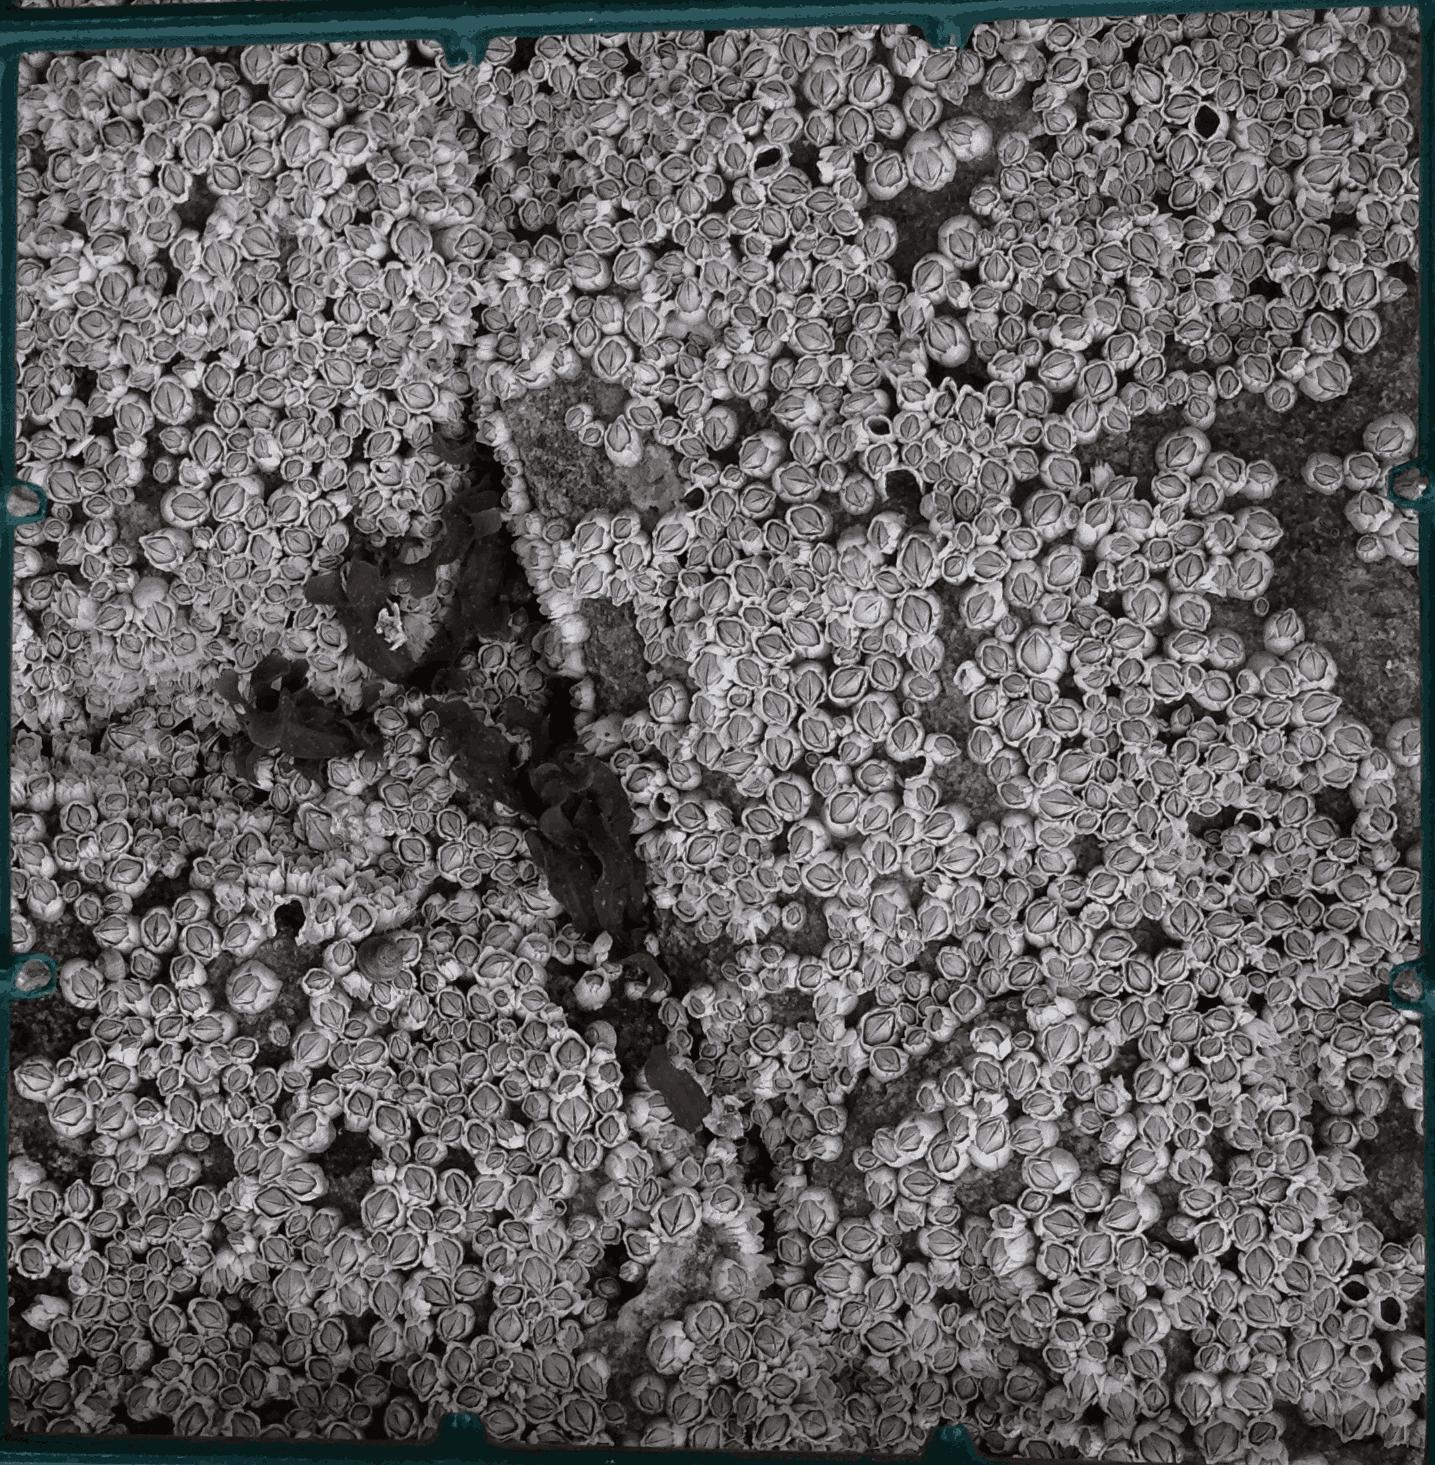Barnacle: (296, 181, 319, 222), (623, 787, 657, 815), (216, 566, 244, 597), (974, 631, 999, 664), (643, 373, 665, 409), (924, 935, 951, 963), (470, 833, 495, 863), (615, 921, 647, 945), (155, 42, 176, 78), (78, 497, 106, 522), (81, 281, 102, 315), (886, 871, 909, 901), (745, 716, 771, 742), (859, 993, 884, 1021), (445, 213, 470, 240), (260, 830, 284, 859), (397, 765, 421, 794), (650, 101, 673, 131), (715, 97, 745, 120), (338, 597, 369, 618), (873, 112, 898, 138), (196, 886, 219, 913), (958, 188, 982, 215), (371, 876, 393, 905), (643, 415, 665, 444), (714, 491, 739, 516), (958, 979, 982, 1005), (728, 441, 750, 469), (192, 49, 219, 71), (756, 893, 785, 914), (669, 591, 699, 611), (741, 551, 771, 570), (601, 380, 620, 410), (402, 978, 426, 1003), (695, 780, 719, 805), (717, 738, 741, 763), (652, 181, 675, 206), (813, 1001, 840, 1024), (37, 854, 59, 880), (787, 838, 813, 861), (151, 336, 173, 363), (281, 156, 304, 183), (183, 828, 210, 849), (555, 325, 582, 346), (284, 265, 311, 286), (568, 223, 595, 244), (147, 167, 168, 194), (929, 109, 957, 130), (769, 863, 792, 887), (591, 552, 615, 575), (607, 46, 631, 70), (568, 838, 590, 863), (616, 706, 639, 731), (938, 654, 961, 679), (551, 545, 573, 570), (176, 72, 201, 95), (899, 70, 921, 95), (99, 67, 124, 89), (385, 435, 403, 465), (110, 265, 129, 296), (790, 970, 811, 996), (762, 955, 783, 981), (679, 619, 700, 645), (929, 484, 955, 505), (495, 456, 516, 482), (941, 863, 961, 891), (744, 845, 771, 865), (361, 823, 381, 850), (336, 755, 356, 783), (566, 469, 586, 497), (138, 300, 158, 327), (131, 88, 151, 116), (598, 74, 618, 101), (164, 678, 187, 702), (654, 633, 677, 657), (736, 344, 758, 368), (33, 328, 57, 351), (57, 215, 80, 238), (246, 181, 269, 204), (506, 24, 528, 47), (127, 979, 148, 1004), (880, 964, 905, 985), (386, 946, 407, 971), (463, 933, 484, 958), (495, 911, 516, 935), (582, 882, 607, 903), (307, 866, 329, 891), (926, 682, 951, 703), (834, 629, 855, 654), (951, 508, 976, 530), (823, 462, 844, 487), (524, 394, 545, 419), (890, 357, 915, 378), (562, 353, 587, 374), (781, 202, 802, 227), (171, 158, 196, 179), (844, 966, 863, 992), (612, 489, 632, 515), (537, 441, 564, 461), (120, 344, 146, 364), (662, 222, 682, 248), (551, 122, 577, 142), (156, 83, 176, 109), (393, 43, 410, 74), (60, 137, 79, 164), (541, 988, 564, 1010), (732, 629, 754, 652), (880, 600, 903, 623), (635, 502, 657, 524), (880, 390, 903, 413), (746, 319, 769, 342), (658, 34, 681, 56), (264, 24, 286, 46), (478, 972, 499, 996), (28, 963, 51, 984), (886, 904, 909, 925), (619, 893, 640, 917), (279, 861, 300, 884), (396, 724, 417, 748), (754, 526, 778, 547), (594, 466, 618, 487), (499, 403, 520, 427), (411, 392, 432, 415), (699, 322, 720, 346), (773, 254, 794, 277), (940, 251, 961, 275), (961, 219, 982, 243), (33, 177, 57, 198), (171, 954, 191, 979), (265, 896, 285, 921), (601, 857, 626, 876), (288, 815, 307, 840), (815, 778, 834, 803), (560, 431, 585, 451), (102, 420, 122, 445), (690, 413, 710, 438), (807, 410, 827, 435), (838, 386, 858, 411), (693, 384, 717, 403), (798, 351, 823, 371), (552, 276, 577, 296), (520, 252, 540, 277), (742, 246, 767, 265), (426, 237, 445, 261), (781, 171, 806, 191), (677, 158, 696, 183), (834, 95, 854, 120), (216, 63, 240, 83), (294, 949, 313, 975), (109, 912, 127, 938), (859, 637, 886, 656), (829, 66, 855, 84), (135, 953, 156, 975), (537, 926, 558, 949), (300, 892, 321, 914), (202, 815, 225, 836), (267, 773, 289, 794), (306, 745, 329, 766), (488, 582, 510, 603), (746, 388, 769, 409), (996, 364, 1018, 385), (831, 306, 853, 327), (39, 285, 60, 307), (230, 250, 252, 271), (71, 191, 92, 213), (721, 141, 742, 163), (623, 109, 645, 130), (317, 941, 336, 964), (807, 914, 827, 938), (313, 914, 332, 938), (315, 819, 335, 842), (135, 710, 159, 729), (102, 637, 122, 661), (899, 631, 922, 650), (930, 573, 954, 593), (799, 501, 823, 520), (982, 297, 1005, 317), (760, 179, 779, 202), (618, 158, 637, 181), (150, 116, 173, 135), (237, 89, 260, 109), (530, 32, 549, 55), (936, 970, 954, 995), (352, 914, 371, 939), (802, 803, 827, 821), (12, 744, 37, 762), (754, 642, 773, 667), (622, 625, 640, 650), (576, 603, 601, 621), (545, 512, 564, 537), (544, 482, 562, 507), (578, 49, 597, 74), (811, 47, 829, 72), (176, 30, 194, 55), (558, 24, 577, 49), (831, 876, 848, 903), (974, 702, 1000, 719), (782, 654, 808, 671), (788, 593, 815, 610), (721, 917, 742, 938), (915, 882, 936, 903), (735, 809, 756, 830), (373, 974, 396, 993), (57, 876, 76, 899), (879, 847, 899, 870), (506, 829, 528, 849), (721, 786, 744, 805), (459, 762, 481, 782), (212, 723, 234, 742), (68, 640, 91, 660), (658, 568, 681, 587), (495, 512, 515, 535), (468, 365, 490, 385), (194, 346, 214, 368), (530, 340, 552, 360), (265, 322, 288, 342), (675, 315, 695, 338), (198, 294, 218, 317), (807, 162, 827, 184), (326, 160, 348, 180), (173, 102, 196, 122), (137, 909, 160, 928), (855, 854, 874, 878), (907, 844, 930, 862), (903, 775, 926, 794), (38, 766, 62, 784), (530, 564, 553, 582), (926, 452, 945, 476), (102, 374, 126, 393), (824, 331, 848, 349), (147, 254, 166, 277), (934, 219, 953, 243), (405, 176, 428, 194), (218, 113, 237, 137), (276, 979, 293, 1004), (78, 599, 102, 616), (85, 233, 102, 258), (130, 194, 147, 219), (921, 191, 938, 215), (904, 99, 929, 116), (834, 34, 852, 59), (494, 995, 514, 1016), (570, 984, 590, 1005), (807, 942, 827, 963), (840, 905, 859, 926), (237, 863, 252, 890), (665, 798, 685, 819), (834, 708, 855, 728), (803, 671, 823, 692), (825, 666, 845, 687), (340, 665, 367, 681), (924, 625, 944, 646), (955, 610, 976, 629), (72, 575, 92, 597), (484, 561, 505, 581), (915, 557, 936, 577), (445, 535, 467, 554), (520, 499, 540, 520), (796, 459, 816, 480), (608, 417, 628, 438), (411, 365, 431, 386), (528, 306, 548, 327), (566, 250, 587, 269), (102, 152, 124, 172), (484, 127, 503, 148), (262, 78, 281, 99), (749, 38, 770, 58), (346, 24, 367, 43), (231, 967, 250, 989), (719, 960, 741, 979), (364, 946, 382, 968), (37, 924, 55, 946), (745, 868, 763, 891), (662, 858, 685, 876), (899, 821, 921, 840), (121, 766, 139, 788), (133, 646, 151, 669), (373, 618, 396, 636), (622, 587, 640, 610), (573, 501, 591, 523), (901, 466, 924, 485), (700, 449, 719, 472), (67, 423, 89, 441), (76, 317, 95, 339), (501, 290, 519, 313), (556, 180, 574, 202), (863, 893, 880, 917), (122, 849, 146, 866), (857, 706, 880, 723), (800, 699, 817, 723), (704, 652, 721, 675), (562, 577, 580, 600), (861, 520, 884, 537), (842, 418, 859, 441), (187, 197, 204, 221), (792, 436, 817, 452), (242, 202, 258, 227), (484, 194, 499, 219), (116, 113, 131, 138), (234, 37, 259, 53), (796, 866, 816, 886), (247, 761, 267, 780), (811, 748, 831, 767), (695, 742, 715, 762), (719, 670, 739, 690), (936, 599, 955, 619), (951, 167, 971, 187), (264, 928, 283, 949), (382, 861, 403, 879), (336, 825, 357, 844), (916, 796, 934, 817), (100, 787, 121, 805), (71, 770, 89, 791), (72, 744, 93, 762), (55, 727, 74, 748), (953, 717, 974, 736), (831, 687, 852, 706), (51, 677, 70, 698), (121, 666, 139, 687), (463, 480, 481, 501), (526, 459, 544, 480), (507, 343, 526, 364), (258, 279, 276, 300), (166, 212, 184, 233), (438, 176, 456, 197), (702, 175, 720, 196), (7, 118, 28, 137), (983, 116, 1001, 137), (961, 106, 979, 127), (779, 64, 800, 83), (300, 49, 318, 70), (133, 41, 151, 62), (951, 35, 970, 56), (930, 17, 951, 35), (346, 985, 368, 1003), (545, 960, 568, 978), (516, 928, 534, 950), (650, 922, 668, 945), (647, 890, 664, 912), (323, 890, 346, 907), (185, 801, 202, 824), (348, 581, 371, 598), (695, 481, 712, 503), (442, 377, 459, 399), (218, 352, 235, 374), (173, 349, 191, 372), (618, 310, 635, 332), (765, 279, 782, 301), (418, 156, 440, 173), (470, 109, 493, 126), (204, 88, 221, 110), (650, 67, 668, 89), (704, 866, 720, 890), (845, 830, 869, 846), (644, 819, 668, 834), (250, 728, 273, 744), (564, 301, 580, 325), (434, 293, 449, 317), (685, 276, 700, 300), (583, 184, 599, 208), (296, 137, 319, 152), (627, 989, 647, 1008), (164, 985, 183, 1005), (187, 866, 206, 884), (97, 825, 116, 845), (840, 808, 859, 826), (954, 808, 972, 828), (331, 784, 350, 804), (208, 777, 226, 796), (284, 585, 304, 603), (47, 562, 66, 582), (748, 493, 767, 511), (650, 451, 669, 470), (511, 434, 531, 452), (624, 397, 644, 415), (863, 363, 882, 382), (24, 304, 43, 322), (484, 269, 502, 289), (890, 248, 908, 268), (11, 183, 29, 202), (129, 64, 148, 83), (260, 49, 279, 68), (610, 960, 635, 975), (495, 486, 510, 511), (42, 409, 57, 434), (911, 5, 936, 20), (890, 993, 911, 1010), (654, 963, 672, 984), (909, 957, 926, 978), (7, 954, 24, 975), (413, 953, 430, 974), (60, 928, 81, 945), (378, 918, 396, 939), (732, 904, 749, 925), (968, 855, 986, 876), (725, 830, 746, 847), (377, 788, 394, 809), (133, 734, 150, 755), (672, 664, 689, 685), (999, 508, 1016, 530), (900, 491, 921, 508), (771, 466, 792, 484), (622, 459, 639, 480), (721, 399, 739, 420), (796, 392, 817, 409), (545, 364, 562, 385), (21, 269, 38, 290), (527, 181, 548, 198), (543, 145, 560, 166), (57, 112, 74, 133), (675, 85, 696, 102), (549, 81, 570, 99), (491, 39, 509, 60), (405, 22, 426, 39), (229, 922, 244, 945), (937, 900, 953, 922), (229, 698, 244, 720), (959, 678, 982, 694), (946, 633, 968, 649), (602, 599, 618, 621), (313, 565, 329, 587), (515, 526, 537, 541), (837, 441, 859, 457), (644, 212, 660, 234), (275, 187, 290, 209), (886, 172, 901, 194), (64, 164, 87, 180), (37, 104, 53, 126), (386, 812, 401, 836), (944, 535, 967, 549), (590, 401, 604, 424), (838, 223, 862, 238), (9, 204, 24, 227), (356, 198, 371, 222), (869, 167, 883, 191), (941, 89, 965, 104), (201, 935, 219, 954), (702, 914, 720, 933), (373, 713, 392, 732), (313, 692, 331, 711), (580, 692, 598, 711), (778, 610, 796, 628), (963, 318, 982, 336), (791, 234, 809, 252), (205, 179, 223, 197), (926, 156, 945, 175), (72, 84, 91, 102), (343, 74, 361, 92), (422, 71, 440, 89), (382, 24, 401, 42), (604, 978, 622, 997), (205, 914, 222, 934), (598, 909, 618, 926), (560, 900, 580, 917), (765, 826, 785, 844), (181, 749, 198, 769), (916, 650, 936, 667), (248, 631, 265, 650), (170, 581, 187, 600), (974, 545, 993, 562), (293, 533, 313, 551), (614, 532, 633, 549), (590, 432, 607, 452), (177, 373, 194, 393), (202, 371, 222, 388), (262, 304, 281, 321), (154, 279, 171, 298), (729, 269, 746, 289), (219, 269, 239, 286), (279, 213, 296, 233), (999, 139, 1016, 159), (834, 126, 854, 143), (102, 91, 120, 110), (869, 55, 886, 75), (57, 42, 74, 62), (900, 33, 917, 53), (449, 20, 467, 39), (59, 974, 80, 989), (526, 972, 541, 993), (255, 962, 276, 978), (53, 905, 74, 921), (357, 853, 378, 868), (221, 847, 237, 868), (49, 826, 64, 847), (677, 777, 693, 798), (221, 757, 242, 773), (636, 568, 652, 589), (720, 369, 741, 385), (484, 305, 505, 321), (448, 282, 469, 298), (602, 273, 623, 289), (367, 251, 388, 267), (756, 221, 777, 237), (905, 214, 926, 230), (114, 208, 130, 229), (693, 201, 714, 217), (502, 181, 518, 202), (422, 125, 443, 141), (802, 106, 817, 127), (890, 85, 905, 106), (951, 955, 974, 970), (151, 200, 166, 222), (959, 917, 976, 935), (22, 830, 39, 849), (863, 737, 880, 755), (329, 736, 346, 754), (570, 673, 587, 691), (762, 671, 781, 688), (591, 658, 608, 677), (313, 589, 331, 606), (39, 585, 57, 603), (273, 547, 290, 565), (735, 512, 752, 531), (926, 511, 944, 530), (767, 423, 785, 441), (744, 417, 762, 434), (721, 314, 739, 332), (297, 311, 315, 328), (746, 296, 763, 314), (670, 294, 689, 311), (166, 260, 183, 279), (92, 258, 110, 275), (14, 254, 32, 272), (212, 237, 229, 255), (714, 222, 731, 240), (208, 198, 226, 215), (102, 185, 120, 204), (599, 32, 618, 49), (732, 1006, 752, 1022), (460, 997, 484, 1010), (91, 968, 106, 988), (1001, 942, 1021, 958), (895, 932, 915, 947), (289, 924, 305, 943), (242, 897, 258, 917), (104, 895, 120, 914), (639, 844, 658, 859), (620, 824, 636, 844), (840, 750, 859, 766), (673, 750, 689, 770), (112, 710, 131, 725), (159, 645, 179, 661), (706, 530, 721, 549), (858, 473, 878, 489), (787, 334, 807, 349), (643, 265, 662, 281), (368, 217, 384, 237), (721, 171, 741, 187), (990, 162, 1005, 181), (499, 151, 519, 167), (520, 145, 540, 160), (254, 125, 269, 145), (34, 41, 47, 64), (816, 24, 832, 43), (622, 733, 643, 748), (371, 691, 392, 706), (615, 670, 629, 691), (990, 610, 1011, 624), (192, 547, 206, 568), (582, 533, 597, 554), (767, 448, 788, 462), (837, 367, 858, 381), (854, 336, 869, 357), (576, 134, 597, 148), (541, 55, 562, 70), (785, 24, 799, 45), (746, 17, 767, 32), (509, 968, 522, 991), (984, 38, 997, 60), (950, 1, 972, 14), (114, 968, 131, 985), (14, 872, 32, 890), (947, 784, 965, 801), (562, 733, 580, 750), (311, 727, 329, 744), (679, 691, 696, 708), (283, 656, 300, 673), (503, 624, 520, 641), (526, 615, 543, 632), (22, 614, 39, 631), (615, 562, 632, 579), (846, 539, 863, 556), (234, 532, 251, 549), (823, 531, 840, 548), (665, 512, 682, 530), (909, 428, 926, 445), (150, 410, 167, 427), (234, 304, 251, 321), (62, 275, 79, 292), (185, 263, 202, 280), (353, 233, 371, 250), (382, 166, 399, 183), (594, 145, 611, 162), (590, 102, 607, 120), (413, 53, 430, 70), (526, 950, 541, 968), (24, 943, 42, 959), (869, 921, 884, 939), (524, 908, 540, 926), (346, 871, 361, 890), (556, 865, 572, 883), (64, 847, 83, 863), (4, 842, 20, 861), (137, 830, 152, 849), (782, 759, 798, 778), (106, 690, 122, 708), (325, 656, 340, 674), (717, 615, 733, 633), (742, 594, 761, 610), (787, 568, 806, 583), (831, 552, 846, 570), (899, 511, 915, 530), (819, 377, 837, 393), (774, 349, 790, 368), (160, 317, 179, 332), (710, 290, 725, 309), (607, 254, 626, 269), (46, 235, 62, 254), (230, 229, 248, 244), (886, 210, 901, 229), (469, 176, 488, 192), (925, 74, 944, 89), (526, 71, 541, 89), (707, 46, 723, 64), (204, 984, 223, 999), (519, 884, 534, 904), (690, 855, 704, 875), (445, 807, 460, 826), (815, 719, 829, 738), (67, 712, 87, 727), (510, 698, 530, 712), (71, 690, 85, 710), (346, 646, 365, 661), (12, 589, 32, 603), (775, 547, 790, 566), (693, 510, 707, 530), (878, 485, 898, 499), (167, 449, 181, 469), (509, 376, 523, 395), (181, 304, 196, 323), (587, 301, 602, 321), (632, 250, 652, 264), (908, 142, 922, 162), (516, 99, 531, 118), (343, 93, 357, 113), (235, 996, 256, 1009), (145, 770, 158, 791), (731, 765, 752, 778), (350, 727, 363, 748), (470, 510, 484, 531), (411, 222, 424, 243), (124, 167, 137, 188), (92, 167, 105, 188), (901, 118, 915, 139), (289, 114, 310, 127), (212, 968, 229, 984), (679, 962, 696, 978), (219, 949, 237, 964), (666, 939, 682, 957), (855, 939, 871, 957), (338, 934, 355, 950), (390, 899, 407, 914), (154, 884, 170, 901), (447, 861, 463, 878), (431, 834, 447, 851), (361, 807, 378, 823), (777, 724, 792, 741), (537, 719, 555, 734), (904, 685, 921, 700), (129, 570, 145, 587), (978, 565, 993, 582), (714, 547, 731, 562), (343, 449, 359, 466), (869, 444, 884, 461), (565, 395, 581, 413), (827, 349, 842, 367), (602, 336, 618, 353), (790, 285, 806, 302), (704, 269, 721, 285), (321, 260, 336, 277), (813, 250, 829, 267), (188, 243, 204, 260), (610, 213, 627, 229), (89, 208, 106, 223), (852, 194, 869, 210), (388, 188, 405, 204), (846, 171, 863, 187), (248, 160, 264, 177), (974, 141, 991, 156), (929, 137, 946, 152), (43, 131, 59, 148), (87, 124, 102, 141), (715, 118, 732, 134), (484, 78, 499, 95), (512, 53, 530, 68), (752, 924, 770, 938), (410, 796, 424, 815), (162, 763, 176, 782), (971, 759, 986, 778), (336, 713, 351, 732), (223, 627, 238, 645), (824, 595, 842, 610), (650, 591, 665, 610), (653, 548, 668, 566), (255, 527, 269, 545), (879, 503, 894, 522), (802, 485, 820, 499), (353, 466, 368, 485), (122, 441, 141, 456), (865, 393, 879, 411), (682, 343, 696, 361), (55, 328, 74, 343), (388, 225, 406, 239), (690, 222, 708, 237), (844, 152, 862, 167), (448, 112, 463, 130), (431, 106, 445, 125), (279, 68, 297, 83), (428, 34, 447, 49), (794, 16, 812, 30), (580, 380, 591, 402), (817, 966, 831, 985), (1007, 865, 1020, 884), (428, 778, 442, 798), (695, 717, 715, 731), (855, 675, 869, 695), (869, 660, 882, 679), (742, 578, 762, 591), (849, 505, 869, 518), (33, 441, 46, 461), (478, 417, 491, 436), (59, 307, 72, 327), (175, 286, 194, 300), (744, 79, 763, 92), (43, 62, 57, 81), (640, 25, 653, 45), (975, 20, 988, 39), (35, 992, 59, 1003), (221, 886, 237, 901), (3, 819, 14, 840), (582, 774, 598, 790), (127, 691, 143, 707), (87, 685, 102, 700), (796, 631, 812, 646), (154, 603, 175, 615), (812, 561, 824, 582), (219, 457, 240, 469), (59, 388, 75, 403), (622, 364, 633, 385), (869, 321, 884, 336), (668, 271, 679, 292), (905, 269, 921, 285), (24, 156, 39, 172), (785, 148, 806, 160), (237, 142, 252, 158), (272, 130, 288, 146), (267, 110, 283, 126), (87, 104, 102, 120), (576, 80, 587, 101), (216, 30, 231, 46), (769, 8, 785, 24), (987, 995, 1001, 1012), (643, 950, 657, 967), (113, 950, 130, 964), (746, 942, 763, 957), (125, 933, 142, 947), (293, 844, 307, 861), (170, 801, 184, 819), (880, 787, 898, 801), (162, 787, 176, 804), (424, 759, 439, 777), (376, 737, 390, 754), (855, 724, 873, 738), (908, 703, 922, 720), (470, 700, 485, 717), (292, 696, 306, 713), (699, 677, 714, 694), (237, 657, 251, 674), (124, 628, 141, 642), (754, 615, 771, 629), (794, 547, 811, 561), (197, 526, 212, 543), (840, 516, 854, 533), (715, 470, 732, 485), (756, 435, 773, 449), (548, 413, 562, 430), (160, 390, 177, 405), (695, 357, 710, 374), (162, 301, 179, 315), (113, 300, 130, 314), (470, 292, 488, 306), (453, 255, 470, 269), (293, 231, 310, 246), (802, 215, 816, 233), (344, 215, 361, 230), (522, 213, 539, 227), (321, 204, 335, 221), (604, 191, 619, 208), (350, 160, 367, 175), (442, 155, 459, 169), (598, 124, 612, 141), (862, 99, 879, 113), (311, 76, 329, 91), (79, 58, 93, 75), (675, 55, 690, 72), (767, 999, 781, 1017), (488, 954, 506, 967), (685, 922, 698, 941), (996, 890, 1014, 903), (456, 823, 469, 841), (307, 515, 321, 533), (269, 495, 288, 508), (24, 465, 37, 484), (455, 431, 468, 449), (155, 367, 168, 385), (11, 363, 29, 376), (109, 237, 127, 250), (941, 194, 954, 213), (171, 191, 184, 209), (490, 164, 503, 183), (210, 135, 223, 154), (696, 18, 710, 37), (844, 7, 862, 20), (852, 880, 863, 900), (852, 652, 863, 671), (436, 402, 448, 422), (643, 288, 654, 307), (551, 215, 562, 235), (539, 200, 551, 219), (18, 989, 34, 1004), (327, 968, 343, 983), (356, 897, 372, 912), (925, 830, 940, 846), (314, 782, 329, 798), (770, 775, 786, 790), (1004, 742, 1018, 758), (580, 731, 595, 745), (879, 723, 894, 738), (265, 686, 280, 702), (745, 667, 760, 683), (886, 646, 901, 661), (540, 606, 555, 621), (506, 603, 522, 618), (469, 587, 484, 603), (332, 577, 347, 593), (283, 512, 298, 527), (777, 497, 791, 512), (736, 476, 750, 491), (127, 468, 142, 484), (50, 459, 66, 473), (16, 448, 32, 462), (22, 405, 37, 420), (674, 388, 689, 403), (108, 322, 124, 336), (201, 321, 216, 336), (848, 277, 862, 293), (913, 244, 929, 259), (162, 235, 177, 250), (537, 230, 552, 246), (386, 208, 402, 222), (838, 204, 853, 219), (214, 162, 229, 177), (878, 143, 894, 158), (325, 135, 340, 150), (799, 129, 813, 145), (321, 60, 336, 75), (156, 968, 173, 981), (177, 897, 191, 914), (405, 851, 422, 865), (104, 851, 121, 865), (95, 769, 112, 782), (766, 748, 779, 765), (114, 746, 127, 763), (321, 629, 338, 642), (265, 624, 283, 637), (531, 583, 544, 600), (57, 579, 70, 597), (18, 543, 35, 556), (799, 526, 812, 543), (648, 473, 665, 486), (85, 441, 102, 455), (530, 424, 547, 438), (210, 424, 227, 438), (491, 380, 505, 397), (233, 371, 246, 388), (60, 363, 74, 380), (60, 346, 78, 359), (968, 346, 986, 359), (248, 328, 262, 346), (231, 326, 244, 343), (806, 271, 819, 288), (62, 244, 79, 258), (604, 234, 618, 251), (424, 208, 438, 225), (587, 206, 604, 219), (51, 201, 68, 214), (907, 175, 924, 188), (231, 171, 244, 188), (480, 152, 493, 169), (12, 152, 25, 169), (28, 138, 41, 155), (104, 135, 117, 152), (198, 120, 212, 137), (685, 35, 698, 53), (708, 248, 729, 259), (306, 978, 318, 996), (909, 863, 921, 882), (940, 811, 951, 829), (201, 748, 219, 759), (955, 702, 974, 713), (218, 678, 237, 690), (1003, 624, 1014, 642), (499, 360, 511, 378), (493, 322, 511, 334), (292, 322, 304, 340), (350, 259, 361, 277), (127, 234, 146, 246), (729, 193, 741, 212), (371, 141, 382, 159), (809, 85, 821, 104), (917, 58, 929, 76), (367, 53, 378, 71), (792, 43, 804, 62), (551, 845, 565, 859), (710, 844, 724, 858), (84, 803, 99, 817), (748, 748, 762, 762), (150, 731, 164, 745), (75, 553, 89, 568), (890, 548, 904, 562), (145, 540, 159, 554), (127, 325, 142, 339), (206, 255, 221, 269), (9, 230, 24, 244), (22, 225, 37, 239), (712, 154, 727, 168), (854, 134, 869, 148), (623, 75, 637, 89), (363, 74, 377, 88), (702, 999, 717, 1012), (457, 970, 470, 985), (700, 960, 714, 976), (78, 911, 93, 924), (578, 908, 591, 924), (286, 905, 300, 921), (693, 896, 706, 912), (413, 868, 428, 882), (120, 815, 135, 828), (301, 773, 314, 788), (166, 727, 181, 740), (785, 681, 800, 694), (999, 660, 1014, 673), (57, 627, 70, 642), (767, 566, 783, 579), (736, 531, 749, 547), (225, 476, 240, 489), (84, 470, 97, 486), (375, 466, 388, 482), (573, 420, 589, 434), (794, 374, 809, 388), (519, 363, 532, 378), (271, 361, 286, 374), (940, 325, 955, 338), (891, 325, 907, 338), (226, 289, 239, 305), (834, 264, 848, 280), (863, 234, 877, 250), (823, 219, 838, 233), (629, 198, 645, 212), (399, 145, 413, 160), (528, 129, 541, 145), (310, 97, 323, 113), (758, 95, 771, 110), (378, 91, 392, 106), (47, 85, 60, 101), (990, 64, 1003, 80), (498, 64, 514, 78), (448, 53, 461, 68), (95, 39, 110, 53), (583, 20, 597, 35), (484, 18, 499, 32), (629, 975, 647, 987), (196, 960, 208, 978), (566, 945, 578, 962), (672, 911, 683, 928), (106, 872, 118, 890), (986, 870, 1003, 882), (331, 847, 348, 859), (311, 846, 329, 858), (879, 816, 896, 828), (545, 787, 557, 804), (262, 748, 279, 759), (511, 741, 528, 753), (928, 728, 940, 745), (279, 723, 290, 740), (302, 707, 314, 724), (968, 661, 986, 673), (632, 657, 644, 674), (148, 589, 166, 600), (951, 587, 968, 599), (510, 562, 522, 579), (601, 516, 612, 533), (452, 401, 469, 413), (682, 367, 694, 384), (870, 258, 882, 275), (590, 250, 602, 267), (38, 215, 50, 233), (564, 145, 576, 162), (469, 139, 481, 156), (694, 131, 711, 143), (823, 89, 834, 106), (451, 74, 463, 91), (578, 866, 597, 876), (166, 823, 176, 841), (690, 656, 700, 674), (482, 438, 491, 459), (990, 975, 1004, 988), (252, 945, 265, 959), (774, 937, 788, 950), (188, 913, 201, 928), (798, 897, 811, 912), (426, 893, 440, 907), (78, 871, 92, 884), (627, 870, 640, 884), (841, 788, 854, 803), (399, 750, 414, 763), (427, 742, 440, 757), (246, 713, 260, 727), (336, 694, 350, 708), (279, 678, 293, 691), (858, 618, 873, 631), (873, 582, 886, 597), (515, 582, 528, 597), (717, 578, 731, 593), (9, 569, 24, 582), (873, 547, 886, 561), (478, 533, 493, 547), (976, 523, 990, 537), (414, 511, 428, 524), (156, 499, 170, 514), (394, 397, 407, 411), (388, 364, 402, 377), (403, 285, 417, 300), (469, 263, 484, 276), (70, 260, 83, 275), (256, 258, 269, 272), (148, 229, 163, 242), (212, 219, 225, 234), (410, 208, 424, 221), (465, 192, 478, 206), (619, 183, 632, 197), (343, 127, 356, 142), (502, 122, 515, 137), (351, 116, 364, 130), (750, 110, 763, 125), (785, 102, 798, 117), (290, 97, 305, 110), (361, 89, 375, 104), (857, 47, 870, 62), (469, 30, 484, 43), (710, 12, 724, 25), (863, 8, 877, 22), (731, 983, 742, 999), (53, 957, 64, 972), (146, 933, 162, 945), (850, 928, 866, 939), (944, 920, 955, 935), (264, 861, 276, 876), (627, 851, 643, 863), (531, 851, 543, 867), (869, 838, 880, 854), (488, 809, 499, 825), (346, 805, 361, 817), (355, 782, 367, 798), (884, 766, 896, 782), (60, 754, 72, 770), (237, 729, 248, 745), (505, 716, 520, 728), (583, 712, 595, 728), (641, 702, 653, 717), (781, 698, 796, 710), (665, 686, 677, 702), (878, 682, 890, 698), (7, 642, 18, 658), (817, 623, 829, 639), (7, 608, 18, 624), (698, 599, 714, 611), (209, 539, 221, 554), (785, 531, 796, 547), (631, 441, 643, 457), (137, 430, 152, 441), (124, 409, 139, 420), (200, 394, 216, 406), (470, 392, 486, 403), (318, 279, 330, 294), (124, 251, 139, 263), (484, 248, 495, 264), (639, 237, 654, 248), (259, 204, 275, 215), (744, 177, 760, 189), (363, 169, 378, 181), (87, 146, 99, 162), (414, 138, 426, 154), (812, 122, 824, 138), (322, 113, 334, 129), (442, 95, 453, 110), (993, 83, 1005, 99), (381, 70, 393, 85), (353, 49, 365, 64), (340, 959, 357, 970), (402, 926, 413, 943), (375, 765, 385, 782), (647, 678, 657, 695), (647, 307, 657, 325), (552, 256, 562, 273), (583, 167, 601, 177), (566, 166, 583, 176), (790, 121, 800, 138), (827, 118, 837, 135), (984, 99, 1001, 109), (732, 11, 749, 21), (72, 947, 85, 960), (177, 882, 191, 895), (216, 871, 229, 884), (206, 849, 219, 862), (181, 773, 194, 786), (163, 748, 176, 761), (626, 688, 639, 702), (911, 582, 924, 595), (294, 568, 307, 581), (64, 406, 78, 419), (131, 395, 145, 409), (767, 339, 781, 352), (219, 309, 233, 322), (294, 294, 307, 307), (244, 290, 258, 304), (39, 258, 53, 271), (393, 243, 406, 256), (273, 237, 286, 250), (516, 230, 530, 243), (877, 194, 890, 208), (350, 177, 363, 191), (166, 139, 179, 152), (331, 106, 344, 120), (505, 81, 518, 95), (886, 47, 899, 60), (991, 0, 1004, 13), (248, 981, 263, 993), (405, 882, 417, 896), (67, 812, 79, 826), (895, 805, 909, 817), (298, 798, 313, 809), (837, 770, 849, 784), (946, 762, 961, 774), (938, 708, 953, 720), (707, 633, 721, 645), (286, 607, 298, 621), (247, 589, 262, 600), (702, 582, 714, 597), (903, 553, 915, 568), (812, 545, 824, 560), (279, 531, 293, 543), (300, 498, 311, 512), (124, 487, 135, 502), (367, 452, 378, 466), (615, 443, 629, 455), (189, 409, 204, 420), (485, 399, 499, 411), (781, 398, 792, 413), (180, 397, 194, 409), (212, 334, 226, 346), (585, 325, 597, 339), (515, 325, 530, 336), (695, 298, 707, 313), (206, 282, 221, 294), (849, 261, 863, 273), (28, 244, 39, 259), (817, 230, 829, 244), (597, 219, 608, 234), (263, 219, 275, 234), (566, 208, 581, 219), (184, 183, 198, 194), (534, 163, 545, 177), (971, 159, 986, 171), (951, 67, 963, 81), (476, 53, 490, 64), (869, 37, 880, 51), (857, 29, 869, 43), (817, 194, 827, 213), (749, 984, 765, 995), (88, 938, 99, 954), (543, 908, 558, 918), (656, 759, 666, 775), (732, 691, 748, 702), (401, 646, 417, 657), (480, 629, 495, 640), (206, 600, 222, 611), (97, 582, 113, 593), (187, 424, 202, 435), (666, 343, 677, 359), (602, 296, 612, 311), (583, 269, 599, 280), (890, 156, 905, 167), (929, 49, 945, 59), (258, 884, 275, 893), (520, 642, 530, 660), (179, 602, 196, 611), (827, 575, 836, 593), (160, 526, 170, 543), (453, 420, 470, 430), (551, 392, 560, 409), (700, 346, 717, 355), (459, 152, 468, 169), (518, 991, 530, 1004), (430, 981, 443, 993), (5, 978, 17, 991), (510, 951, 523, 963), (585, 945, 597, 958), (84, 925, 97, 937), (418, 908, 431, 920), (78, 893, 89, 907), (428, 855, 442, 867), (555, 826, 566, 840), (612, 803, 626, 815), (279, 799, 290, 812), (470, 790, 484, 801), (318, 766, 331, 778), (899, 755, 911, 769), (997, 723, 1011, 734), (491, 696, 505, 708), (368, 673, 380, 686), (900, 665, 912, 678), (300, 661, 311, 674), (499, 644, 512, 656), (159, 621, 171, 635), (558, 606, 570, 619), (59, 603, 72, 615), (986, 589, 999, 600), (532, 543, 545, 554), (121, 543, 134, 554), (438, 526, 451, 537), (124, 526, 137, 537), (774, 484, 786, 497), (332, 468, 346, 480), (187, 439, 200, 451), (229, 436, 240, 449), (470, 405, 484, 417), (32, 364, 45, 376), (438, 363, 449, 376), (271, 258, 284, 269), (99, 222, 110, 235), (717, 206, 729, 219), (675, 196, 687, 209), (601, 176, 612, 189), (353, 138, 367, 150), (181, 131, 194, 143), (419, 97, 431, 110), (936, 60, 947, 74), (242, 59, 255, 71), (120, 49, 131, 62), (919, 42, 930, 55), (699, 981, 710, 996), (122, 890, 137, 900), (982, 888, 992, 903), (787, 887, 802, 897), (816, 882, 827, 896), (160, 849, 175, 859), (863, 762, 878, 773), (647, 719, 661, 729), (92, 710, 102, 724), (916, 614, 930, 624), (840, 491, 850, 506), (301, 364, 315, 374), (715, 355, 725, 369), (660, 322, 670, 336), (660, 306, 670, 321), (343, 293, 353, 307), (377, 237, 388, 251), (904, 233, 919, 243), (75, 122, 85, 137), (465, 80, 480, 91), (886, 67, 896, 81), (737, 64, 752, 75), (886, 32, 896, 46), (966, 16, 976, 30), (281, 954, 290, 970), (239, 748, 258, 755), (848, 464, 857, 480), (756, 206, 771, 215), (377, 200, 386, 215), (752, 130, 767, 139), (767, 124, 777, 139), (711, 943, 723, 955), (166, 928, 177, 939), (710, 896, 721, 908), (786, 784, 798, 796), (819, 700, 831, 712), (300, 681, 311, 692), (982, 675, 993, 687), (543, 661, 555, 673), (645, 656, 657, 667), (300, 631, 311, 642), (75, 625, 87, 637), (702, 615, 714, 627), (254, 612, 265, 624), (723, 599, 735, 611), (451, 568, 463, 579), (112, 497, 124, 508), (147, 447, 159, 459), (47, 441, 59, 453), (202, 271, 214, 282), (459, 240, 470, 252), (187, 229, 198, 240), (990, 194, 1001, 206), (858, 116, 870, 127), (338, 59, 350, 71), (898, 58, 909, 70), (777, 50, 788, 62), (222, 49, 234, 60), (499, 939, 512, 950), (919, 911, 929, 924), (225, 907, 235, 920), (92, 896, 102, 909), (686, 872, 696, 886), (541, 682, 555, 692), (307, 650, 321, 661), (488, 618, 498, 631), (922, 595, 936, 606), (809, 583, 823, 594), (271, 566, 281, 579), (164, 549, 177, 560), (929, 540, 940, 553), (146, 523, 156, 536), (28, 501, 38, 514), (335, 491, 346, 505), (43, 489, 54, 502), (139, 487, 150, 501), (520, 484, 534, 494), (346, 480, 356, 493), (880, 470, 891, 484), (39, 466, 50, 480), (463, 448, 473, 461), (715, 430, 725, 443), (171, 407, 181, 420), (79, 398, 92, 409), (79, 382, 92, 393), (138, 369, 151, 380), (731, 297, 744, 307), (176, 243, 187, 256), (728, 238, 741, 248), (737, 219, 750, 230), (976, 173, 990, 184), (39, 162, 53, 172), (831, 152, 841, 166), (239, 124, 252, 134), (378, 109, 392, 120), (978, 76, 988, 89), (288, 46, 298, 59), (418, 42, 431, 53), (875, 830, 892, 838), (68, 543, 85, 551), (60, 476, 78, 484), (377, 380, 385, 397), (97, 912, 106, 926), (296, 731, 305, 745), (976, 727, 991, 736), (417, 679, 431, 688), (774, 636, 788, 645), (247, 461, 256, 476), (227, 388, 242, 397), (968, 374, 983, 384), (823, 269, 832, 284), (469, 237, 484, 246), (506, 214, 515, 229), (463, 125, 472, 139), (687, 993, 698, 1005), (601, 934, 612, 945), (159, 905, 171, 916), (74, 833, 85, 844), (865, 777, 877, 787), (359, 755, 371, 766), (285, 748, 296, 759), (42, 740, 53, 752), (355, 713, 367, 724), (664, 706, 672, 721), (915, 671, 926, 682), (641, 640, 652, 652), (543, 635, 553, 646), (561, 633, 572, 645), (329, 606, 340, 616), (139, 600, 151, 611), (272, 599, 284, 610), (154, 577, 166, 587), (310, 548, 322, 558), (888, 533, 899, 545), (474, 443, 482, 459), (29, 427, 41, 438), (254, 361, 265, 372), (417, 300, 428, 310), (250, 239, 262, 250), (493, 233, 503, 244), (837, 188, 849, 198), (929, 177, 941, 188), (760, 160, 767, 176), (145, 154, 156, 164), (455, 141, 465, 152), (615, 99, 626, 110), (121, 83, 131, 95), (465, 64, 476, 76), (873, 24, 884, 34), (891, 950, 904, 959), (779, 924, 792, 933), (120, 868, 129, 882), (89, 859, 102, 868), (834, 855, 848, 865), (289, 761, 302, 770), (963, 745, 976, 754), (495, 742, 509, 752), (942, 737, 951, 750), (99, 737, 108, 750), (723, 723, 736, 732), (534, 702, 543, 715), (656, 696, 665, 710), (397, 657, 406, 670), (378, 654, 392, 664), (591, 639, 604, 648), (603, 625, 616, 635), (807, 616, 816, 629), (116, 585, 129, 594), (855, 558, 869, 568), (12, 514, 25, 523), (126, 512, 139, 522), (598, 452, 611, 461), (767, 403, 777, 417), (503, 259, 512, 272), (336, 255, 346, 268), (700, 239, 714, 248), (626, 231, 639, 240), (871, 213, 880, 226), (806, 185, 819, 194), (740, 137, 753, 146), (495, 102, 505, 116), (410, 89, 419, 102), (820, 76, 829, 89), (431, 50, 440, 63), (565, 782, 573, 796), (520, 716, 535, 724), (156, 564, 171, 572), (788, 510, 796, 524), (685, 466, 693, 481), (403, 116, 411, 130), (64, 536, 81, 543), (1004, 967, 1014, 978), (971, 783, 982, 794), (696, 769, 707, 779), (363, 732, 373, 742), (352, 692, 363, 703), (516, 674, 527, 685), (682, 644, 693, 654), (661, 611, 672, 621), (909, 599, 920, 610), (444, 505, 455, 515), (289, 481, 300, 491), (371, 184, 381, 194), (402, 163, 413, 173), (771, 160, 782, 171), (368, 116, 378, 126), (474, 93, 485, 104), (378, 42, 389, 53), (795, 949, 804, 960), (375, 911, 386, 920), (91, 884, 102, 893), (120, 838, 129, 850), (926, 765, 936, 777), (114, 731, 124, 742), (499, 729, 511, 738), (194, 717, 204, 729), (570, 715, 580, 727), (633, 678, 645, 687), (313, 669, 325, 678), (866, 597, 878, 606), (848, 589, 857, 600), (284, 568, 293, 579), (89, 539, 101, 548), (110, 533, 122, 543), (915, 524, 926, 533), (551, 469, 560, 481), (782, 432, 794, 441), (386, 417, 396, 428), (566, 413, 578, 422), (150, 382, 159, 394), (530, 369, 541, 378), (28, 212, 37, 223), (739, 204, 750, 213), (829, 196, 838, 208), (754, 146, 766, 155), (954, 139, 966, 148), (777, 138, 786, 150), (447, 131, 459, 141), (329, 89, 340, 99), (965, 70, 976, 79), (771, 28, 783, 37), (828, 13, 840, 22), (877, 945, 884, 958), (555, 675, 562, 688), (409, 478, 417, 491), (51, 474, 59, 487), (497, 434, 505, 447), (704, 311, 717, 319), (809, 142, 823, 150), (465, 93, 473, 106), (737, 39, 745, 53), (608, 16, 622, 24), (352, 950, 363, 959), (695, 884, 706, 893), (164, 861, 175, 870), (265, 808, 276, 817), (580, 745, 590, 754), (323, 713, 332, 724), (267, 706, 277, 715), (183, 625, 193, 635), (346, 621, 356, 631), (905, 615, 915, 625), (480, 604, 489, 615), (109, 543, 120, 552), (911, 541, 921, 551), (113, 515, 122, 526), (791, 494, 802, 503), (327, 455, 336, 465), (148, 399, 159, 409), (626, 244, 636, 254), (895, 237, 905, 246), (518, 202, 528, 212), (265, 148, 275, 159), (259, 66, 269, 75), (481, 64, 491, 74), (629, 16, 639, 26), (882, 13, 891, 24), (817, 9, 827, 20), (891, 4, 901, 13), (25, 854, 39, 861), (583, 963, 591, 975), (156, 832, 164, 844), (785, 800, 792, 812), (553, 753, 565, 761), (599, 746, 607, 758), (527, 664, 535, 675), (615, 660, 627, 667), (607, 640, 615, 652), (848, 614, 855, 625), (373, 603, 381, 615), (455, 589, 463, 600), (120, 561, 131, 569), (62, 486, 74, 494), (367, 426, 375, 438), (304, 418, 311, 430), (359, 343, 367, 355), (490, 290, 498, 302), (882, 237, 894, 244), (700, 162, 708, 173), (583, 150, 591, 162), (388, 145, 396, 156), (739, 126, 750, 134), (968, 81, 976, 93), (407, 71, 415, 83), (85, 725, 99, 732), (898, 417, 904, 430), (378, 399, 385, 413), (372, 359, 378, 372), (716, 989, 725, 999), (607, 949, 616, 958), (160, 945, 170, 954), (145, 896, 154, 905), (961, 838, 970, 847), (578, 798, 587, 807), (934, 759, 944, 769), (530, 691, 539, 700), (695, 640, 704, 649), (340, 639, 350, 648), (357, 625, 367, 635), (97, 556, 106, 565), (901, 533, 911, 543), (449, 516, 459, 526), (175, 440, 184, 449), (290, 417, 300, 426), (313, 405, 322, 414), (850, 243, 859, 252), (509, 171, 518, 180), (378, 122, 388, 131), (501, 96, 510, 105), (963, 58, 972, 67), (162, 957, 170, 967), (49, 892, 57, 903), (685, 887, 693, 897), (340, 861, 351, 868), (947, 838, 955, 849), (84, 820, 92, 830), (484, 720, 491, 731), (891, 681, 901, 688), (411, 660, 422, 667), (155, 636, 163, 646), (733, 611, 744, 619), (859, 581, 870, 589), (294, 558, 305, 566), (109, 554, 120, 562), (54, 530, 64, 537), (17, 484, 25, 494), (141, 406, 151, 414), (562, 378, 570, 389), (41, 353, 49, 364), (505, 246, 512, 256), (875, 227, 886, 235), (773, 110, 783, 118), (397, 78, 405, 88), (177, 565, 189, 572), (762, 355, 769, 367), (782, 118, 788, 130), (819, 868, 828, 876), (137, 794, 146, 801), (537, 775, 545, 784), (589, 754, 597, 763), (834, 731, 844, 738), (909, 727, 919, 734), (46, 618, 55, 625), (524, 600, 532, 610), (597, 501, 604, 510), (284, 406, 293, 414), (396, 95, 403, 104), (540, 886, 547, 896), (1009, 765, 1016, 775), (168, 419, 175, 430), (459, 39, 465, 50), (92, 847, 100, 855), (459, 102, 465, 112), (289, 625, 294, 636)
